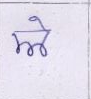o_matra: (35, 16, 50, 58)
